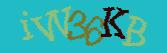3: (66, 11, 86, 39)
6: (84, 16, 104, 45)
B: (120, 15, 146, 47)
K: (99, 7, 127, 37)
W: (30, 5, 71, 41)
i: (20, 10, 32, 38)
